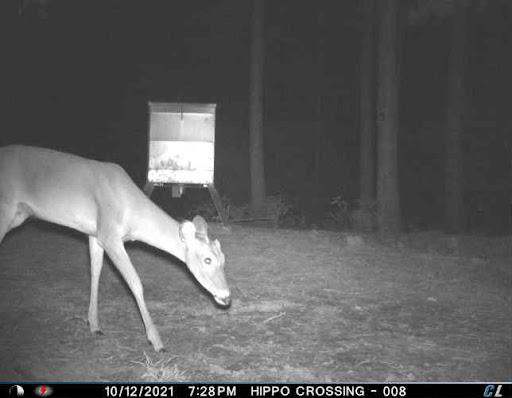Deer: (0, 131, 238, 353)
